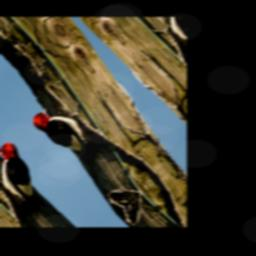Woodpecker: (29, 90, 110, 177)
